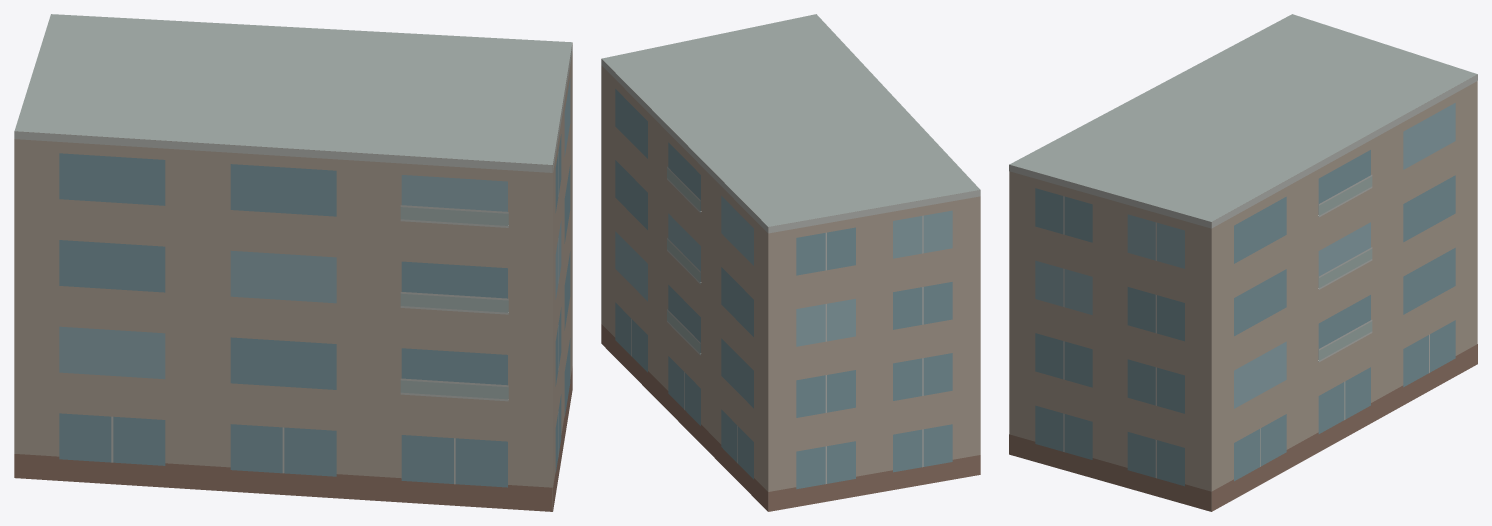
Rendered from survey-upis-32626390.glb.
3 renders of one model, left to right at view 1: azimuth 30°, elevation 25°; view 2: azimuth 150°, elevation 25°; view 3: azimuth 270°, elevation 25°, orthographic. The views are drawn at different scales.
Visible parts, largest first — view 1: survey-upis-32626390.tmp; view 2: survey-upis-32626390.tmp; view 3: survey-upis-32626390.tmp.
Part boxes in pixels (box(x1,y1,x2,y2)): survey-upis-32626390.tmp: box(14, 14, 572, 511); survey-upis-32626390.tmp: box(601, 14, 980, 511); survey-upis-32626390.tmp: box(1009, 14, 1477, 511).
Size of the model in its own units: 16.47 by 10.7 by 15.68.
